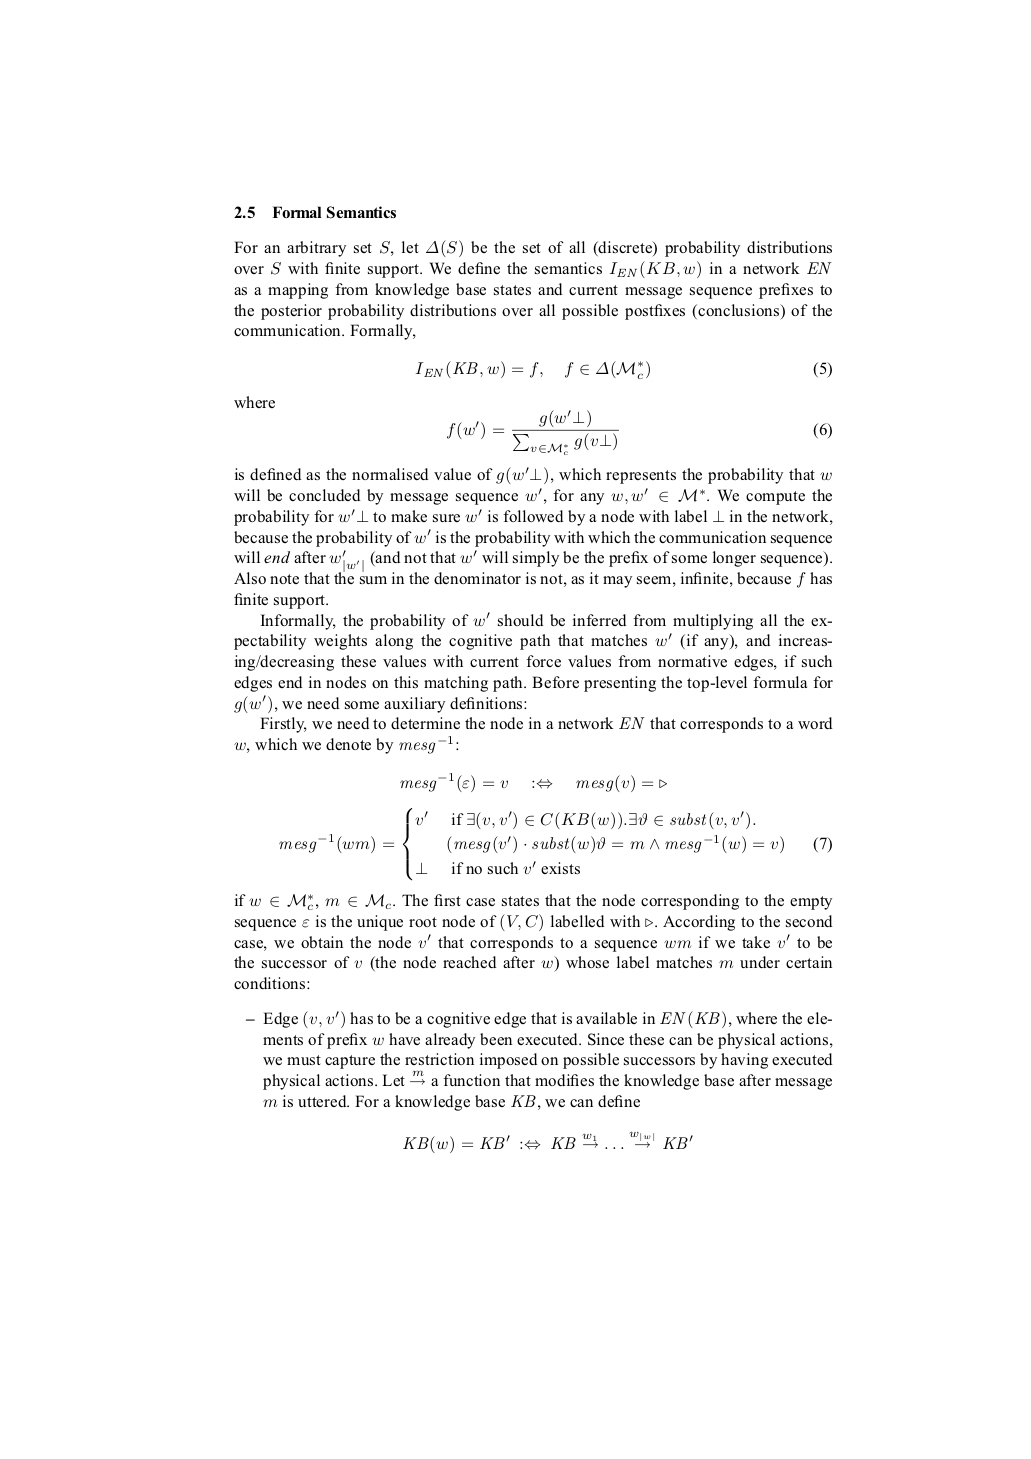formula: (279, 806, 831, 881), (447, 410, 831, 454), (415, 360, 831, 379), (403, 1130, 692, 1154), (399, 772, 666, 793)
